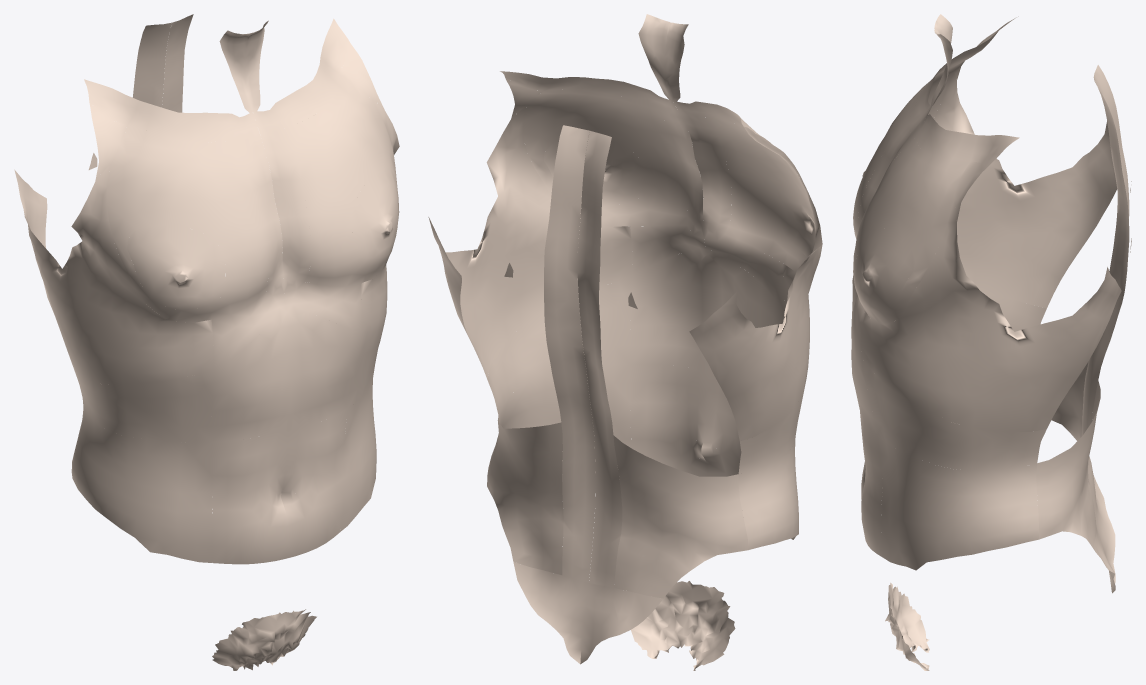
Rendered from skin.glb.
3 views of the same model, side by side, from view 1: azimuth 30°, elevation 25°; view 2: azimuth 150°, elevation 25°; view 3: azimuth 270°, elevation 25° (orthographic). The views are drawn at different scales.
Visible parts, largest first — view 1: Lateral region of thorax.r.001, Pectoral region.r.001, Lateral region of abdomen.r.001, Pectoral region.l.001, Umbilical region.r.001, Epigastric region.r.001, Hypochondriac region.r.001, Umbilical region.l.001, Epigastric region.l.001, Mammary region.r.001, Presternal region.l.001, Infraclavicular fossa.r.001 (+15 smaller); view 2: Lateral region of thorax.l.001, Vertebral region.l.001, Lumbar region.r.001, Lateral region of thorax.r.001, Pectoral region.l.001, Vertebral region.r.001, Lumbar region.l.001, Epigastric region.l.001, Umbilical region.l.001, Pectoral region.r.001, Hypochondriac region.l.001, Pubic hairs.001 (+17 smaller); view 3: Lateral region of thorax.l.001, Lateral region of thorax.r.001, Lateral region of abdomen.l.001, Pectoral region.l.001, Hypochondriac region.l.001, Lumbar region.l.001, Mammary region.l.001, Vertebral region.l.001, Infraclavicular fossa.l.001, Umbilical region.l.001, Pubic hairs.001, Pectoral region.r.001 (+10 smaller).
Part boxes in pixels (x1,y1,x2,y2): Lateral region of thorax.r.001: (14,165,213,384); Pectoral region.r.001: (107,125,268,322); Lateral region of abdomen.r.001: (71,400,212,562); Pectoral region.l.001: (285,74,397,286); Umbilical region.r.001: (211,430,288,564); Epigastric region.r.001: (211,305,291,441); Hypochondriac region.r.001: (73,368,214,442); Umbilical region.l.001: (283,409,347,558); Epigastric region.l.001: (286,304,361,430); Mammary region.r.001: (127,225,225,310); Presternal region.l.001: (253,110,310,305); Infraclavicular fossa.r.001: (84,79,239,142); Lateral region of thorax.l.001: (428,106,632,379); Vertebral region.l.001: (544,125,595,582); Lumbar region.r.001: (613,435,748,598); Lateral region of thorax.r.001: (689,173,822,441); Pectoral region.l.001: (523,89,687,226); Vertebral region.r.001: (577,131,622,587); Lumbar region.l.001: (487,416,563,574); Epigastric region.l.001: (630,248,711,373); Umbilical region.l.001: (630,364,708,476); Pectoral region.r.001: (705,117,822,271); Hypochondriac region.l.001: (487,274,633,415); Pubic hairs.001: (631,581,735,670); Lateral region of thorax.l.001: (861,201,1121,431); Lateral region of thorax.r.001: (934,72,1117,308); Lateral region of abdomen.l.001: (877,436,1038,570); Pectoral region.l.001: (853,136,970,324); Hypochondriac region.l.001: (861,358,1046,470); Lumbar region.l.001: (1036,381,1100,552); Mammary region.l.001: (854,227,914,311); Vertebral region.l.001: (1082,79,1129,520); Infraclavicular fossa.l.001: (913,114,1019,162); Umbilical region.l.001: (860,411,883,557); Pubic hairs.001: (885,582,929,670); Pectoral region.r.001: (853,58,968,238).
Bounding box in the file's own units: 0.3614 × 0.6692 × 0.2667.
